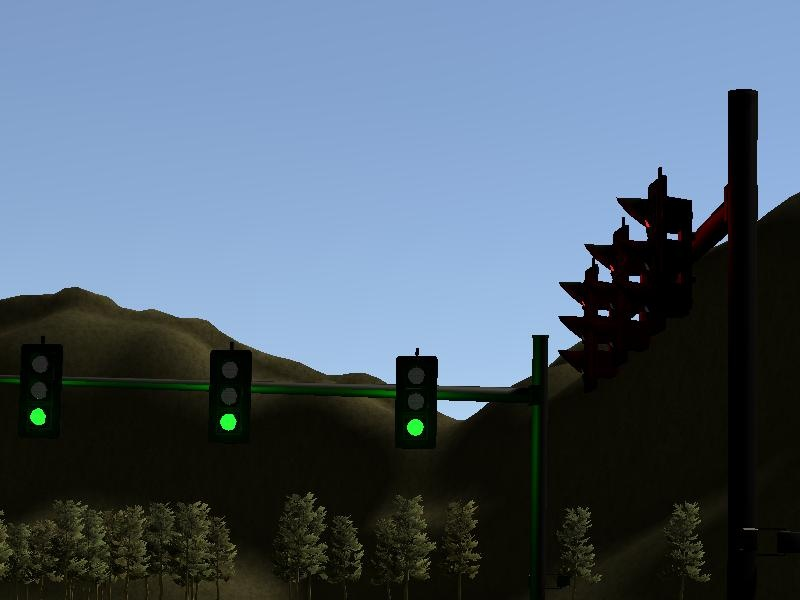Green: (18, 341, 63, 440), (209, 348, 253, 448), (395, 356, 438, 449)
